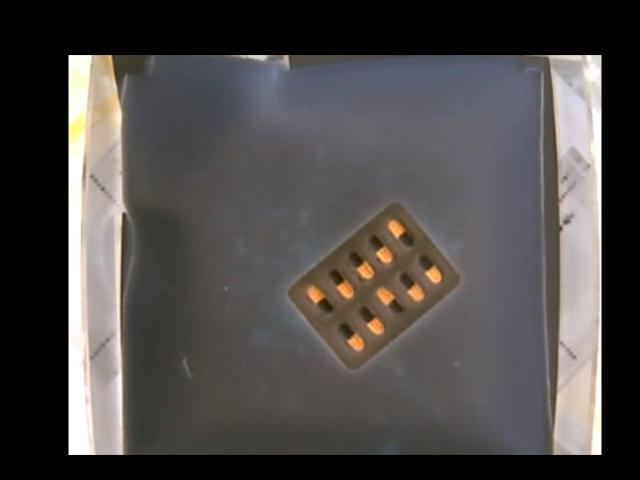Medicine: (285, 203, 464, 373)
